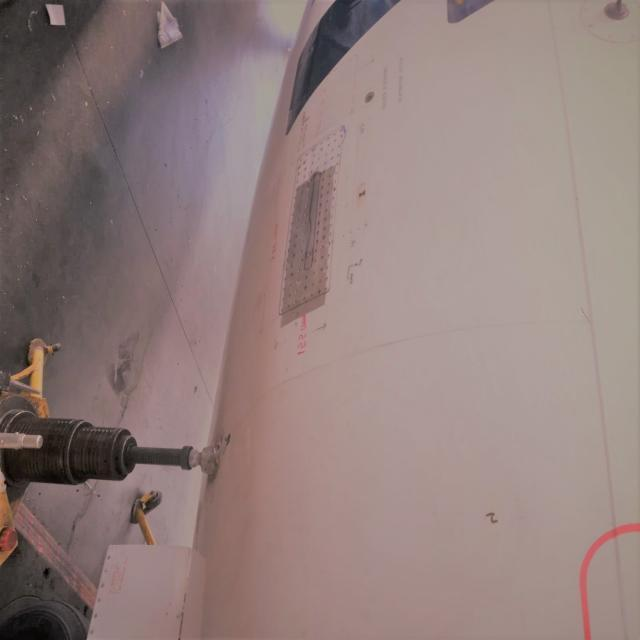crack: (578, 305, 593, 324)
